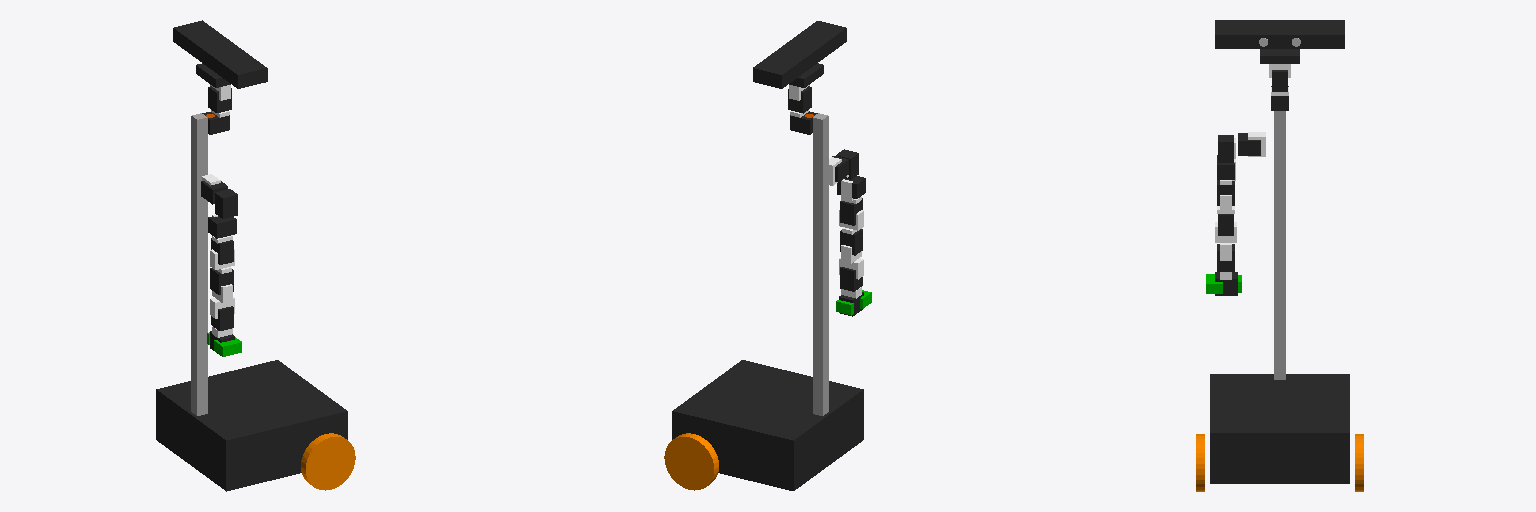
--- What the picture shows (computed from the rendered views, not written in the file) ---
3 views of the same robot in one strip: view 1: azimuth 30°, elevation 25°; view 2: azimuth 150°, elevation 25°; view 3: azimuth 270°, elevation 25° (orthographic).
Robot: box_robot — 43 links, 42 joints (9 revolute, 2 continuous, 31 fixed); root link base_footprint; default pose: every joint at zero.
Visible links, largest first — view 1: base_link, torso_link, camera_link, base_r_wheel_link, right_arm_shoulder_lift_link, right_arm_shoulder_roll_link; view 2: base_link, torso_link, camera_link, base_l_wheel_link; view 3: base_link, camera_link, torso_link, camera_base_link.
Link boxes in pixels (x1=…): base_link: x1=156, y1=360, x2=347, y2=491; torso_link: x1=191, y1=113, x2=207, y2=415; camera_link: x1=173, y1=20, x2=267, y2=88; base_r_wheel_link: x1=301, y1=433, x2=355, y2=490; right_arm_shoulder_lift_link: x1=215, y1=189, x2=237, y2=218; right_arm_shoulder_roll_link: x1=208, y1=216, x2=236, y2=238; base_link: x1=672, y1=360, x2=863, y2=490; torso_link: x1=813, y1=113, x2=828, y2=415; camera_link: x1=753, y1=21, x2=846, y2=88; base_l_wheel_link: x1=664, y1=433, x2=718, y2=490; base_link: x1=1210, y1=374, x2=1349, y2=483; camera_link: x1=1215, y1=20, x2=1344, y2=48; torso_link: x1=1274, y1=111, x2=1285, y2=379; camera_base_link: x1=1260, y1=49, x2=1299, y2=63.
Bounding box of the posed robot: 0.3164 × 0.3603 × 1.01 m (x, y, z).
0 mesh visuals loaded from 1 distinct referenced files (none loaded); not drawn: 2 (reference not matched to a file when rendering).

URDF robot description (box_robot):
<?xml version="1.0" ?>
<!-- =================================================================================== -->
<!-- |    This document was autogenerated by xacro from box_robot_with_arm.xacro       | -->
<!-- |    EDITING THIS FILE BY HAND IS NOT RECOMMENDED                                 | -->
<!-- =================================================================================== -->
<robot name="box_robot" xmlns:xacro="http://ros.org/wiki/xacro">
  <!-- Define a number of dimensions using properties -->
  <!-- Include all component files -->
  <material name="Black">
    <color rgba="0.2 0.2 0.2 1.0"/>
  </material>
  <material name="TransparentBlack">
    <color rgba="0.2 0.2 0.2 0.8"/>
  </material>
  <material name="Orange">
    <color rgba="1.0  0.55 0.0 1.0"/>
  </material>
  <material name="Grey">
    <color rgba="0.7 0.7 0.7 1.0"/>
  </material>
  <material name="DarkGrey">
    <color rgba="0.3 0.3 0.3 1.0"/>
  </material>
  <material name="Red">
    <color rgba="0.8 0.0 0.0 1.0"/>
  </material>
  <material name="White">
    <color rgba="1.0 1.0 1.0 1.0"/>
  </material>
  <material name="OffWhite">
    <color rgba="0.8 0.8 0.8 1.0"/>
  </material>
  <material name="Blue">
    <color rgba="0.0 0.0 0.8 1.0"/>
  </material>
  <material name="Green">
    <color rgba="0.0 0.8 0.0 1.0"/>
  </material>
  <material name="TransparentGreen">
    <color rgba="0.0 0.8 0.0 0.5"/>
  </material>
  <link name="base_footprint">
    <visual>
      <origin rpy="0 0 0" xyz="0 0 0"/>
      <geometry>
        <box size="0.05 0.05 0.001"/>
      </geometry>
      <material name="TransparentGreen"/>
    </visual>
  </link>
  <joint name="base_joint" type="fixed">
    <origin rpy="0 0 0" xyz="0 0 0.098"/>
    <parent link="base_footprint"/>
    <child link="base_link"/>
  </joint>
  <joint name="base_l_wheel_joint" type="continuous">
    <axis xyz="0 0 1"/>
    <limit effort="100" velocity="100"/>
    <safety_controller k_velocity="10"/>
    <origin rpy="1.570795 0 0" xyz="0.09 0.17 -0.038"/>
    <parent link="base_link"/>
    <child link="base_l_wheel_link"/>
  </joint>
  <link name="base_l_wheel_link">
    <visual>
      <origin rpy="0 0 0" xyz="0 0 0"/>
      <geometry>
        <cylinder length="0.02032" radius="0.06191"/>
      </geometry>
      <material name="Orange"/>
    </visual>
  </link>
  <joint name="base_r_wheel_joint" type="continuous">
    <axis xyz="0 0 1"/>
    <limit effort="100" velocity="100"/>
    <safety_controller k_velocity="10"/>
    <origin rpy="-1.570795 0 0" xyz="0.09 -0.17 -0.038"/>
    <parent link="base_link"/>
    <child link="base_r_wheel_link"/>
  </joint>
  <link name="base_r_wheel_link">
    <visual>
      <origin rpy="0 0 0" xyz="0 0 0"/>
      <geometry>
        <cylinder length="0.02032" radius="0.06191"/>
      </geometry>
      <material name="Orange"/>
    </visual>
  </link>
  <!-- Add the base and wheels -->
  <link name="base_link">
    <visual>
      <origin rpy="0 0 0" xyz="0 0 0"/>
      <geometry>
        <box size="0.3 0.3 0.12"/>
      </geometry>
      <material name="Black"/>
    </visual>
    <collision>
      <origin rpy="0 0 0" xyz="0 0 0"/>
      <geometry>
        <box size="0.3 0.36032 0.12"/>
      </geometry>
    </collision>
  </link>
  <!-- Attach the torso -->
  <joint name="base_torso_joint" type="fixed">
    <origin rpy="0 0 0" xyz="-0.13 0.0 0.41"/>
    <parent link="base_link"/>
    <child link="torso_link"/>
  </joint>
  <link name="torso_link">
    <visual>
      <origin rpy="0 0 0" xyz="0 0 0"/>
      <geometry>
        <box size="0.0254 0.0254 0.7"/>
      </geometry>
      <material name="Grey"/>
    </visual>
    <collision>
      <origin rpy="0 0 0" xyz="0 0 0"/>
      <geometry>
        <box size="0.0254 0.0254 0.7"/>
      </geometry>
    </collision>
  </link>
  <!-- Attach the pan and tilt head -->
  <joint name="head_base_joint" type="fixed">
    <origin rpy="0 0 3.14159" xyz="0.0275 0.0 0.345"/>
    <parent link="torso_link"/>
    <child link="head_base_link"/>
  </joint>
  <link name="head_base_link">
    <origin rpy="0 0 0" xyz="0 0 0"/>
    <inertial>
      <mass value="0.00001"/>
      <inertia ixx="1.0" ixy="0.0" ixz="0.0" iyy="1.0" iyz="0.0" izz="1.0"/>
    </inertial>
    <visual>
      <origin rpy="0 0 0" xyz="0 0 0 "/>
      <geometry>
        <cylinder length="0.00001" radius="0.01"/>
      </geometry>
    </visual>
    <collision>
      <origin rpy="0 0 0" xyz="0 0 0 "/>
      <geometry>
        <cylinder length="0.00001" radius="0.01"/>
      </geometry>
    </collision>
  </link>
  <joint name="head_pan_servo_joint" type="fixed">
    <origin rpy="1.570795 0 -1.570795" xyz="-0.012 0 -0.0175"/>
    <parent link="head_base_link"/>
    <child link="head_pan_servo_link"/>
  </joint>
  <link name="head_pan_servo_link">
    <inertial>
      <mass value="0.00001"/>
      <origin xyz="0 0 0"/>
      <inertia ixx="1.0" ixy="0.0" ixz="0.0" iyy="1.0" iyz="0.0" izz="1.0"/>
    </inertial>
    <visual>
      <origin rpy="0 0 0" xyz="0 0 0"/>
      <geometry>
        <box size="0.0385 0.035 0.049"/>
      </geometry>
      <material name="Black"/>
    </visual>
    <collision>
      <origin rpy="0 0 0" xyz="0 0 -0.01241"/>
      <geometry>
        <box size="0.0385 0.035 0.049"/>
      </geometry>
    </collision>
  </link>
  <joint name="head_pan_joint" type="revolute">
    <origin rpy="-1.570795 1.570795 3.14159" xyz="0 0.0225 0.012"/>
    <axis xyz="0 0 -1"/>
    <parent link="head_pan_servo_link"/>
    <limit effort="1.0" lower="-2.9" upper="2.9" velocity="1.571"/>
    <child link="head_pan_bracket_link"/>
  </joint>
  <link name="head_pan_bracket_link">
    <inertial>
      <mass value="0.00001"/>
      <origin xyz="0 0 0"/>
      <inertia ixx="1.0" ixy="0.0" ixz="0.0" iyy="1.0" iyz="0.0" izz="1.0"/>
    </inertial>
    <visual>
      <origin rpy="0 0 0" xyz="0 0 0 "/>
      <geometry>
        <box size="0.025 0.038 0.009"/>
      </geometry>
      <material name="White"/>
    </visual>
    <collision>
      <origin rpy="0 0 0" xyz="0 0 0"/>
      <geometry>
        <box size="0.025 0.038 0.009"/>
      </geometry>
    </collision>
  </link>
  <joint name="head_tilt_servo_joint" type="fixed">
    <origin rpy="0 3.14159 0" xyz="0 0 -0.031"/>
    <parent link="head_pan_bracket_link"/>
    <child link="head_tilt_servo_link"/>
  </joint>
  <link name="head_tilt_servo_link">
    <inertial>
      <mass value="0.00001"/>
      <origin xyz="0 0 0"/>
      <inertia ixx="1.0" ixy="0.0" ixz="0.0" iyy="1.0" iyz="0.0" izz="1.0"/>
    </inertial>
    <visual>
      <origin rpy="0 0 0" xyz="0 0 0"/>
      <geometry>
        <box size="0.0385 0.035 0.049"/>
      </geometry>
      <material name="Black"/>
    </visual>
    <collision>
      <origin rpy="0 0 0" xyz="0 0 -0.01241"/>
      <geometry>
        <box size="0.0385 0.035 0.049"/>
      </geometry>
    </collision>
  </link>
  <joint name="head_tilt_joint" type="revolute">
    <origin rpy="0 0 0" xyz="0 0 0.025"/>
    <parent link="head_tilt_servo_link"/>
    <axis xyz="0 1 0"/>
    <limit effort="1.0" lower="-2.9" upper="2.9" velocity="1.571"/>
    <child link="head_tilt_bracket_link"/>
  </joint>
  <link name="head_tilt_bracket_link">
    <inertial>
      <mass value="0.00001"/>
      <origin xyz="0 0 0"/>
      <inertia ixx="1.0" ixy="0.0" ixz="0.0" iyy="1.0" iyz="0.0" izz="1.0"/>
    </inertial>
    <visual>
      <origin rpy="0 0 0" xyz="0 0 0 "/>
      <geometry>
        <box size="0.0245 0.048 0.038"/>
      </geometry>
      <material name="White"/>
    </visual>
    <collision>
      <origin rpy="0 0 0" xyz="0 0 0"/>
      <geometry>
        <box size="0.0245 0.048 0.038"/>
      </geometry>
    </collision>
  </link>
  <link name="left_eye_link">
    <visual>
      <origin rpy="0 1.57 0" xyz="0 0 0"/>
      <geometry>
        <cylinder length="0.01" radius="0.01"/>
      </geometry>
      <material name="OffWhite"/>
    </visual>
    <collision>
      <origin rpy="0 1.57 0" xyz="0 0 0"/>
      <geometry>
        <cylinder length="0.01" radius="0.01"/>
      </geometry>
    </collision>
    <inertial>
      <mass value="0.00001"/>
      <origin xyz="0 0 0"/>
      <inertia ixx="1.0" ixy="0.0" ixz="0.0" iyy="1.0" iyz="0.0" izz="1.0"/>
    </inertial>
  </link>
  <link name="right_eye_link">
    <visual>
      <origin rpy="0 1.57 0" xyz="0 0 0"/>
      <geometry>
        <cylinder length="0.01" radius="0.01"/>
      </geometry>
      <material name="OffWhite"/>
    </visual>
    <collision>
      <origin rpy="0 1.57 0" xyz="0 0 0"/>
      <geometry>
        <cylinder length="0.01" radius="0.01"/>
      </geometry>
    </collision>
    <inertial>
      <mass value="0.00001"/>
      <origin xyz="0 0 0"/>
      <inertia ixx="1.0" ixy="0.0" ixz="0.0" iyy="1.0" iyz="0.0" izz="1.0"/>
    </inertial>
  </link>
  <joint name="left_eye_joint" type="fixed">
    <parent link="camera_link"/>
    <child link="left_eye_link"/>
    <origin rpy="0 0 0" xyz="0.034355 0.035 0"/>
  </joint>
  <joint name="right_eye_joint" type="fixed">
    <parent link="camera_link"/>
    <child link="right_eye_link"/>
    <origin rpy="0 0 0" xyz="0.034355 -0.035 0"/>
  </joint>
  <joint name="head_tilt_bracket_camera_joint" type="fixed">
    <origin rpy="0 0 0" xyz="0.0 0.0 0.0345"/>
    <parent link="head_tilt_bracket_link"/>
    <child link="camera_base_link"/>
  </joint>
  <link name="camera_base_link">
    <visual>
      <origin rpy="0 0 0" xyz="0 0.0 0.0"/>
      <geometry>
        <box size="0.072 0.085 0.021"/>
      </geometry>
      <material name="Black"/>
    </visual>
    <collision>
      <origin rpy="0 0 0" xyz="0 0 0"/>
      <geometry>
        <box size="0.072 0.085 0.021"/>
      </geometry>
    </collision>
  </link>
  <joint name="camera_base_post_joint" type="fixed">
    <origin rpy="0 0 0" xyz="0 0 0.0185"/>
    <parent link="camera_base_link"/>
    <child link="camera_base_post_link"/>
  </joint>
  <link name="camera_base_post_link">
    <visual>
      <origin rpy="0 0 0" xyz="0 0 0"/>
      <geometry>
        <cylinder length="0.016" radius="0.005"/>
      </geometry>
      <material name="Black"/>
    </visual>
    <collision>
      <origin rpy="0 0 0" xyz="0 0 0"/>
      <geometry>
        <cylinder length="0.016" radius="0.005"/>
      </geometry>
    </collision>
  </link>
  <joint name="camera_base_joint" type="fixed">
    <origin rpy="0 0 0" xyz="0 0 0.0245"/>
    <parent link="camera_base_post_link"/>
    <child link="camera_link"/>
  </joint>
  <link name="camera_link">
    <visual>
      <origin rpy="0 0 0" xyz="0 0 0"/>
      <geometry>
        <box size="0.07271 0.27794 0.033"/>
      </geometry>
      <material name="Black"/>
    </visual>
    <collision>
      <origin rpy="0 0 0" xyz="0 0 0"/>
      <geometry>
        <box size="0.07271 0.27794 0.033"/>
      </geometry>
    </collision>
  </link>
  <joint name="camera_depth_joint" type="fixed">
    <origin rpy="0 0 0" xyz="0 0.0125 0"/>
    <parent link="camera_link"/>
    <child link="camera_depth_frame"/>
  </joint>
  <link name="camera_depth_frame">
    <inertial>
      <mass value="0.000001"/>
      <origin xyz="0 0 0"/>
      <inertia ixx="0.0001" ixy="0.0" ixz="0.0" iyy="0.0001" iyz="0.0" izz="0.0001"/>
    </inertial>
  </link>
  <joint name="camera_depth_optical_joint" type="fixed">
    <origin rpy="-1.570795 0 -1.570795" xyz="0 0 0"/>
    <parent link="camera_depth_frame"/>
    <child link="camera_depth_optical_frame"/>
  </joint>
  <link name="camera_depth_optical_frame">
    <inertial>
      <mass value="0.000001"/>
      <origin xyz="0 0 0"/>
      <inertia ixx="0.0001" ixy="0.0" ixz="0.0" iyy="0.0001" iyz="0.0" izz="0.0001"/>
    </inertial>
  </link>
  <joint name="camera_rgb_joint" type="fixed">
    <origin rpy="0 0 0" xyz="0 -0.0125 0"/>
    <parent link="camera_link"/>
    <child link="camera_rgb_frame"/>
  </joint>
  <link name="camera_rgb_frame">
    <inertial>
      <mass value="0.000001"/>
      <origin xyz="0 0 0"/>
      <inertia ixx="0.0001" ixy="0.0" ixz="0.0" iyy="0.0001" iyz="0.0" izz="0.0001"/>
    </inertial>
  </link>
  <joint name="camera_rgb_optical_joint" type="fixed">
    <origin rpy="-1.570795 0 -1.570795" xyz="0 0 0"/>
    <parent link="camera_rgb_frame"/>
    <child link="camera_rgb_optical_frame"/>
  </joint>
  <link name="camera_rgb_optical_frame">
    <inertial>
      <mass value="0.000001"/>
      <origin xyz="0 0 0"/>
      <inertia ixx="0.0001" ixy="0.0" ixz="0.0" iyy="0.0001" iyz="0.0" izz="0.0001"/>
    </inertial>
  </link>
  <!-- Attach the right arm -->
  <link name="right_arm_base_link"/>
  <joint name="right_arm_base_joint" type="fixed">
    <origin rpy="0 0 1.570795" xyz="0.0 -0.05 0.2"/>
    <parent link="torso_link"/>
    <child link="right_arm_base_link"/>
  </joint>
  <joint name="right_arm_shoulder_F2_bracket_joint" type="fixed">
    <origin rpy="1.570795 0 1.570795" xyz="0 0 0"/>
    <parent link="right_arm_base_link"/>
    <child link="right_arm_shoulder_F2_bracket_link"/>
  </joint>
  <link name="right_arm_shoulder_F2_bracket_link">
    <inertial>
      <mass value="0.00001"/>
      <origin xyz="0 0 0"/>
      <inertia ixx="1.0" ixy="0.0" ixz="0.0" iyy="1.0" iyz="0.0" izz="1.0"/>
    </inertial>
    <visual>
      <origin rpy="0 0 0" xyz=" 0 0 0 "/>
      <geometry>
        <box size="0.0245 0.048 0.038"/>
      </geometry>
      <material name="White"/>
    </visual>
    <collision>
      <origin rpy="0 0 0" xyz="0.0 0.0 0.00775"/>
      <geometry>
        <box size="0.0245 0.048 0.038"/>
      </geometry>
    </collision>
  </link>
  <joint name="right_arm_shoulder_pan_joint" type="revolute">
    <origin rpy="0 0 0" xyz="0 0 -0.015"/>
    <axis xyz="0 1 0"/>
    <limit effort="1.0" lower="-2.7" upper="2.7" velocity="1.571"/>
    <parent link="right_arm_shoulder_F2_bracket_link"/>
    <child link="right_arm_shoulder_pan_link"/>
  </joint>
  <link name="right_arm_shoulder_pan_link">
    <inertial>
      <mass value="0.00001"/>
      <origin xyz="0 0 0"/>
      <inertia ixx="1.0" ixy="0.0" ixz="0.0" iyy="1.0" iyz="0.0" izz="1.0"/>
    </inertial>
    <visual>
      <origin rpy="0 0 0" xyz=" 0 0 0 "/>
      <geometry>
        <box size="0.0385 0.035 0.049"/>
      </geometry>
      <material name="Black"/>
    </visual>
    <collision>
      <origin rpy="0 0 0" xyz="0.0 0.0 -0.01241"/>
      <geometry>
        <box size="0.0385 0.035 0.049"/>
      </geometry>
    </collision>
  </link>
  <joint name="right_arm_shoulder_F3_bracket_joint" type="fixed">
    <origin rpy="0 3.14159 0" xyz="0 -0.01 -0.03275"/>
    <parent link="right_arm_shoulder_pan_link"/>
    <child link="right_arm_shoulder_F3_bracket_link"/>
  </joint>
  <link name="right_arm_shoulder_F3_bracket_link">
    <inertial>
      <mass value="0.00001"/>
      <origin xyz="0 0 0"/>
      <inertia ixx="1.0" ixy="0.0" ixz="0.0" iyy="1.0" iyz="0.0" izz="1.0"/>
    </inertial>
    <visual>
      <origin rpy="0 0 0" xyz=" 0 0 0 "/>
      <geometry>
        <box size="0.025 0.038 0.009"/>
      </geometry>
      <material name="White"/>
    </visual>
    <collision>
      <origin rpy="0 0 0" xyz="0.0 0.0 -0.0045"/>
      <geometry>
        <box size="0.025 0.038 0.009"/>
      </geometry>
    </collision>
  </link>
  <joint name="right_arm_shoulder_lift_joint" type="revolute">
    <origin rpy="1.570795 3.14159 3.14159" xyz="0 0 0.0175"/>
    <axis xyz="0 -1.0 0"/>
    <limit effort="1.0" lower="-4.7" upper="4.7" velocity="1.571"/>
    <parent link="right_arm_shoulder_F3_bracket_link"/>
    <child link="right_arm_shoulder_lift_link"/>
  </joint>
  <link name="right_arm_shoulder_lift_link">
    <inertial>
      <mass value="0.00001"/>
      <origin xyz="0 0 0"/>
      <inertia ixx="1.0" ixy="0.0" ixz="0.0" iyy="1.0" iyz="0.0" izz="1.0"/>
    </inertial>
    <visual>
      <origin rpy="0 0 0" xyz=" 0 0 0 "/>
      <geometry>
        <box size="0.0385 0.035 0.049"/>
      </geometry>
      <material name="Black"/>
    </visual>
    <collision>
      <origin rpy="0 0 0" xyz="0.0 0.0 -0.01241"/>
      <geometry>
        <box size="0.0385 0.035 0.049"/>
      </geometry>
    </collision>
  </link>
  <joint name="right_arm_shoulder_roll_joint" type="revolute">
    <origin rpy="1.570795 0 1.570795" xyz="-0.01 0 -0.049"/>
    <axis xyz="0 1.0 0"/>
    <limit effort="1.0" lower="-2.617" upper="2.617" velocity="1.571"/>
    <parent link="right_arm_shoulder_lift_link"/>
    <child link="right_arm_shoulder_roll_link"/>
  </joint>
  <link name="right_arm_shoulder_roll_link">
    <inertial>
      <mass value="0.00001"/>
      <origin xyz="0 0 0"/>
      <inertia ixx="1.0" ixy="0.0" ixz="0.0" iyy="1.0" iyz="0.0" izz="1.0"/>
    </inertial>
    <visual>
      <origin rpy="0 0 0" xyz=" 0 0 0 "/>
      <geometry>
        <box size="0.0385 0.035 0.049"/>
      </geometry>
      <material name="Black"/>
    </visual>
    <collision>
      <origin rpy="0 0 0" xyz="0.0 0.0 -0.01241"/>
      <geometry>
        <box size="0.0385 0.035 0.049"/>
      </geometry>
    </collision>
  </link>
  <joint name="right_arm_shoulder_roll_F3_bracket_joint" type="fixed">
    <origin rpy="0 1.570795 0" xyz="0.0175 0 0"/>
    <parent link="right_arm_shoulder_roll_link"/>
    <child link="right_arm_shoulder_roll_F3_bracket_link"/>
  </joint>
  <link name="right_arm_shoulder_roll_F3_bracket_link">
    <inertial>
      <mass value="0.00001"/>
      <origin xyz="0 0 0"/>
      <inertia ixx="1.0" ixy="0.0" ixz="0.0" iyy="1.0" iyz="0.0" izz="1.0"/>
    </inertial>
    <visual>
      <origin rpy="0 0 0" xyz=" 0 0 0 "/>
      <geometry>
        <box size="0.025 0.038 0.009"/>
      </geometry>
      <material name="White"/>
    </visual>
    <collision>
      <origin rpy="0 0 0" xyz="0.0 0.0 -0.0045"/>
      <geometry>
        <box size="0.025 0.038 0.009"/>
      </geometry>
    </collision>
  </link>
  <joint name="right_arm_shoulder_roll_F9_bracket_joint" type="fixed">
    <origin rpy="0 1.570795 0" xyz="0 -0.0125 -0.0085"/>
    <parent link="right_arm_shoulder_roll_F3_bracket_link"/>
    <child link="right_arm_shoulder_roll_F9_bracket_link"/>
  </joint>
  <link name="right_arm_shoulder_roll_F9_bracket_link">
    <inertial>
      <mass value="0.00001"/>
      <origin xyz="0 0 0"/>
      <inertia ixx="1.0" ixy="0.0" ixz="0.0" iyy="1.0" iyz="0.0" izz="1.0"/>
    </inertial>
    <visual>
      <origin rpy="0 0 0" xyz=" 0 0 0 "/>
      <geometry>
        <box size="0.025 0.025 0.025"/>
      </geometry>
      <material name="White"/>
    </visual>
    <collision>
      <origin rpy="0 0 0" xyz="0.0 0.0 -0.0045"/>
      <geometry>
        <box size="0.025 0.025 0.025"/>
      </geometry>
    </collision>
  </link>
  <joint name="right_arm_elbow_F3_bracket_joint" type="fixed">
    <origin rpy="1.570795 3.14159 3.14159" xyz="0.009 -0.01575 0"/>
    <parent link="right_arm_shoulder_roll_F9_bracket_link"/>
    <child link="right_arm_elbow_F3_bracket_link"/>
  </joint>
  <link name="right_arm_elbow_F3_bracket_link">
    <inertial>
      <mass value="0.00001"/>
      <origin xyz="0 0 0"/>
      <inertia ixx="1.0" ixy="0.0" ixz="0.0" iyy="1.0" iyz="0.0" izz="1.0"/>
    </inertial>
    <visual>
      <origin rpy="0 0 0" xyz=" 0 0 0 "/>
      <geometry>
        <box size="0.025 0.038 0.009"/>
      </geometry>
      <material name="White"/>
    </visual>
    <collision>
      <origin rpy="0 0 0" xyz="0.0 0.0 -0.0045"/>
      <geometry>
        <box size="0.025 0.038 0.009"/>
      </geometry>
    </collision>
  </link>
  <joint name="right_arm_elbow_flex_servo_joint" type="fixed">
    <origin rpy="0 3.14159 0" xyz="0 0 -0.029"/>
    <parent link="right_arm_elbow_F3_bracket_link"/>
    <child link="right_arm_elbow_flex_servo_link"/>
  </joint>
  <link name="right_arm_elbow_flex_servo_link">
    <inertial>
      <mass value="0.00001"/>
      <origin xyz="0 0 0"/>
      <inertia ixx="1.0" ixy="0.0" ixz="0.0" iyy="1.0" iyz="0.0" izz="1.0"/>
    </inertial>
    <visual>
      <origin rpy="0 0 0" xyz="0 0 0"/>
      <geometry>
        <box size="0.0385 0.035 0.049"/>
      </geometry>
      <material name="Black"/>
    </visual>
    <collision>
      <origin rpy="0 0 0" xyz="0 0 -0.01241"/>
      <geometry>
        <box size="0.0385 0.035 0.049"/>
      </geometry>
    </collision>
  </link>
  <joint name="right_arm_elbow_flex_joint" type="revolute">
    <origin rpy="0 0 0" xyz="0 0 0.0185"/>
    <axis xyz="0 1 0"/>
    <limit effort="1.0" lower="-1.8" upper="1.8" velocity="1.571"/>
    <parent link="right_arm_elbow_flex_servo_link"/>
    <child link="right_arm_elbow_flex_link"/>
  </joint>
  <link name="right_arm_elbow_flex_link">
    <inertial>
      <mass value="0.00001"/>
      <origin xyz="0 0 0"/>
      <inertia ixx="1.0" ixy="0.0" ixz="0.0" iyy="1.0" iyz="0.0" izz="1.0"/>
    </inertial>
    <visual>
      <origin rpy="0 0 0" xyz=" 0 0 0 "/>
      <geometry>
        <box size="0.0245 0.048 0.038"/>
      </geometry>
      <material name="White"/>
    </visual>
    <collision>
      <origin rpy="0 0 0" xyz="0.0 0.0 0.00775"/>
      <geometry>
        <box size="0.0245 0.048 0.038"/>
      </geometry>
    </collision>
  </link>
  <joint name="right_arm_forearm_F3_bracket_joint" type="fixed">
    <origin rpy="3.14159 0 1.570795" xyz="0 0 0.0235"/>
    <parent link="right_arm_elbow_flex_link"/>
    <child link="right_arm_forearm_F3_bracket_link"/>
  </joint>
  <link name="right_arm_forearm_F3_bracket_link">
    <inertial>
      <mass value="0.00001"/>
      <origin xyz="0 0 0"/>
      <inertia ixx="1.0" ixy="0.0" ixz="0.0" iyy="1.0" iyz="0.0" izz="1.0"/>
    </inertial>
    <visual>
      <origin rpy="0 0 0" xyz=" 0 0 0 "/>
      <geometry>
        <box size="0.025 0.038 0.009"/>
      </geometry>
      <material name="White"/>
    </visual>
    <collision>
      <origin rpy="0 0 0" xyz="0.0 0.0 -0.0045"/>
      <geometry>
        <box size="0.025 0.038 0.009"/>
      </geometry>
    </collision>
  </link>
  <joint name="right_arm_forearm_flex_servo_joint" type="fixed">
    <origin rpy="3.14159 0 0" xyz="0 0 -0.02875"/>
    <parent link="right_arm_forearm_F3_bracket_link"/>
    <child link="right_arm_forearm_flex_servo_link"/>
  </joint>
  <link name="right_arm_forearm_flex_servo_link">
    <inertial>
      <mass value="0.00001"/>
      <origin xyz="0 0 0"/>
      <inertia ixx="1.0" ixy="0.0" ixz="0.0" iyy="1.0" iyz="0.0" izz="1.0"/>
    </inertial>
    <visual>
      <origin rpy="0 0 0" xyz="0 0 0"/>
      <geometry>
        <box size="0.0385 0.035 0.049"/>
      </geometry>
      <material name="Black"/>
    </visual>
    <collision>
      <origin rpy="0 0 0" xyz="0 0 -0.01241"/>
      <geometry>
        <box size="0.0385 0.035 0.049"/>
      </geometry>
    </collision>
  </link>
  <joint name="right_arm_forearm_flex_joint" type="revolute">
    <origin rpy="0 0 0" xyz="0 0 0.0245"/>
    <axis xyz="0 1.0 0"/>
    <limit effort="1.0" lower="-1.8" upper="1.8" velocity="1.571"/>
    <parent link="right_arm_forearm_flex_servo_link"/>
    <child link="right_arm_forearm_flex_link"/>
  </joint>
  <link name="right_arm_forearm_flex_link">
    <inertial>
      <mass value="0.00001"/>
      <origin xyz="0 0 0"/>
      <inertia ixx="1.0" ixy="0.0" ixz="0.0" iyy="1.0" iyz="0.0" izz="1.0"/>
    </inertial>
    <visual>
      <origin rpy="0 0 0" xyz=" 0 0 0 "/>
      <geometry>
        <box size="0.0245 0.048 0.038"/>
      </geometry>
      <material name="White"/>
    </visual>
    <collision>
      <origin rpy="0 0 0" xyz="0.0 0.0 0.00775"/>
      <geometry>
        <box size="0.0245 0.048 0.038"/>
      </geometry>
    </collision>
  </link>
  <joint name="right_arm_forearm_F2_bracket_joint" type="fixed">
    <origin rpy="0 3.14159 1.570795" xyz="0 0 0.03825"/>
    <parent link="right_arm_forearm_flex_link"/>
    <child link="right_arm_forearm_F2_bracket_link"/>
  </joint>
  <link name="right_arm_forearm_F2_bracket_link">
    <inertial>
      <mass value="0.00001"/>
      <origin xyz="0 0 0"/>
      <inertia ixx="1.0" ixy="0.0" ixz="0.0" iyy="1.0" iyz="0.0" izz="1.0"/>
    </inertial>
    <visual>
      <origin rpy="0 0 0" xyz=" 0 0 0 "/>
      <geometry>
        <box size="0.0245 0.048 0.038"/>
      </geometry>
      <material name="White"/>
    </visual>
    <collision>
      <origin rpy="0 0 0" xyz="0.0 0.0 0.00775"/>
      <geometry>
        <box size="0.0245 0.048 0.038"/>
      </geometry>
    </collision>
  </link>
  <joint name="right_arm_wrist_flex_joint" type="revolute">
    <origin rpy="0 0 0" xyz="0 0 -0.0225"/>
    <axis xyz="0 1 0"/>
    <limit effort="1.0" lower="-1.57" upper="1.57" velocity="1.571"/>
    <parent link="right_arm_forearm_F2_bracket_link"/>
    <child link="right_arm_wrist_flex_link"/>
  </joint>
  <link name="right_arm_wrist_flex_link">
    <inertial>
      <mass value="0.00001"/>
      <origin xyz="0 0 0"/>
      <inertia ixx="1.0" ixy="0.0" ixz="0.0" iyy="1.0" iyz="0.0" izz="1.0"/>
    </inertial>
    <visual>
      <origin rpy="0 0 0" xyz=" 0 0 0 "/>
      <geometry>
        <box size="0.0385 0.035 0.049"/>
      </geometry>
      <material name="Black"/>
    </visual>
    <collision>
      <origin rpy="0 0 0" xyz="0.0 0.0 -0.01241"/>
      <geometry>
        <box size="0.0385 0.035 0.049"/>
      </geometry>
    </collision>
  </link>
  <joint name="right_arm_wrist_F3_bracket_joint" type="fixed">
    <origin rpy="3.14159 0 0" xyz="0 0 -0.029"/>
    <parent link="right_arm_wrist_flex_link"/>
    <child link="right_arm_wrist_F3_bracket_link"/>
  </joint>
  <link name="right_arm_wrist_F3_bracket_link">
    <inertial>
      <mass value="0.00001"/>
      <origin xyz="0 0 0"/>
      <inertia ixx="1.0" ixy="0.0" ixz="0.0" iyy="1.0" iyz="0.0" izz="1.0"/>
    </inertial>
    <visual>
      <origin rpy="0 0 0" xyz=" 0 0 0 "/>
      <geometry>
        <box size="0.025 0.038 0.009"/>
      </geometry>
      <material name="White"/>
    </visual>
    <collision>
      <origin rpy="0 0 0" xyz="0.0 0.0 -0.0045"/>
      <geometry>
        <box size="0.025 0.038 0.009"/>
      </geometry>
    </collision>
  </link>
  <joint name="right_arm_gripper_attach_joint" type="fixed">
    <origin rpy="3.14159 0 0" xyz="0 0 0.009"/>
    <parent link="right_arm_wrist_F3_bracket_link"/>
    <child link="right_arm_gripper_attach_link"/>
  </joint>
  <link name="right_arm_gripper_attach_link">
    <inertial>
      <mass value="0.00001"/>
      <origin xyz="0 0 0"/>
      <inertia ixx="1.0" ixy="0.0" ixz="0.0" iyy="1.0" iyz="0.0" izz="1.0"/>
    </inertial>
    <visual>
      <origin rpy="0 0 0" xyz=" 0 0 0 "/>
      <geometry>
        <box size="0.025 0.038 0.009"/>
      </geometry>
      <material name="White"/>
    </visual>
    <collision>
      <origin rpy="0 0 0" xyz="0.0 0.0 -0.0045"/>
      <geometry>
        <box size="0.025 0.038 0.009"/>
      </geometry>
    </collision>
  </link>
  <!-- Attach the right gripper -->
  <joint name="right_gripper_base_joint" type="fixed">
    <origin rpy="0 1.570795 3.14159" xyz="0 0 -0.0235"/>
    <parent link="right_arm_gripper_attach_link"/>
    <child link="right_gripper_base_link"/>
  </joint>
  <link name="right_gripper_base_link">
    <inertial>
      <mass value="0.00001"/>
      <origin xyz="0 0 0"/>
      <inertia ixx="1.0" ixy="0.0" ixz="0.0" iyy="1.0" iyz="0.0" izz="1.0"/>
    </inertial>
    <visual>
      <origin rpy="0 0 0" xyz="0 0 0"/>
      <geometry>
        <box size="0.0385 0.035 0.049"/>
      </geometry>
      <material name="Black"/>
    </visual>
    <collision>
      <origin rpy="0 0 0" xyz="0 0 -0.01241"/>
      <geometry>
        <box size="0.0385 0.035 0.049"/>
      </geometry>
    </collision>
  </link>
  <joint name="right_gripper_finger_joint" type="revolute">
    <origin rpy="0 0 0" xyz="0 0 0.025"/>
    <axis xyz="0 1 0"/>
    <limit effort="30" lower="-0.060" upper="0.50" velocity="0.785"/>
    <parent link="right_gripper_base_link"/>
    <child link="right_gripper_active_finger_bracket_link"/>
  </joint>
  <link name="right_gripper_active_finger_bracket_link">
    <inertial>
      <mass value="0.00001"/>
      <origin xyz="0 0 0"/>
      <inertia ixx="1.0" ixy="0.0" ixz="0.0" iyy="1.0" iyz="0.0" izz="1.0"/>
    </inertial>
    <visual>
      <origin rpy="0 0 0" xyz="0 0 0"/>
      <geometry>
        <box size="0.0245 0.048 0.038"/>
      </geometry>
      <material name="Green"/>
    </visual>
    <collision>
      <origin rpy="0 0 0" xyz="0.0 0.0 0.00775"/>
      <geometry>
        <box size="0.0245 0.048 0.038"/>
      </geometry>
    </collision>
  </link>
  <joint name="right_gripper_active_finger_joint" type="fixed">
    <origin rpy="0 0 0" xyz="0 0 0.019"/>
    <parent link="right_gripper_active_finger_bracket_link"/>
    <child link="right_gripper_active_finger_link"/>
  </joint>
  <link name="right_gripper_active_finger_link">
    <inertial>
      <mass value="0.00001"/>
      <origin xyz="0 0 0"/>
      <inertia ixx="1.0" ixy="0.0" ixz="0.0" iyy="1.0" iyz="0.0" izz="1.0"/>
    </inertial>
    <visual>
      <origin rpy="0 0 0" xyz=" 0 0 0 "/>
      <geometry>
        <mesh filename="package://rbx2_description/meshes/finger.stl" scale="0.001 0.001 0.001"/>
      </geometry>
      <material name="Green"/>
    </visual>
    <collision>
      <origin rpy="0 0 0" xyz="0.02645 0.0 -0.00655"/>
      <geometry>
        <box size="0.0783 0.03801 0.0193"/>
      </geometry>
    </collision>
  </link>
  <joint name="right_gripper_static_finger_bracket_joint" type="fixed">
    <origin rpy="0 3.14159 0" xyz="0 0 -0.029"/>
    <parent link="right_gripper_base_link"/>
    <child link="right_gripper_static_finger_bracket_link"/>
  </joint>
  <link name="right_gripper_static_finger_bracket_link">
    <inertial>
      <mass value="0.00001"/>
      <origin xyz="0 0 0"/>
      <inertia ixx="1.0" ixy="0.0" ixz="0.0" iyy="1.0" iyz="0.0" izz="1.0"/>
    </inertial>
    <visual>
      <origin rpy="0 0 0" xyz=" 0 0 0 "/>
      <geometry>
        <box size="0.025 0.038 0.009"/>
      </geometry>
      <material name="Green"/>
    </visual>
    <collision>
      <origin rpy="0 0 0" xyz="0.0 0.0 -0.0045"/>
      <geometry>
        <box size="0.025 0.038 0.009"/>
      </geometry>
    </collision>
  </link>
  <joint name="right_gripper_static_finger_joint" type="fixed">
    <origin rpy="0 0 3.14159" xyz="0 0 0.004"/>
    <parent link="right_gripper_static_finger_bracket_link"/>
    <child link="right_gripper_static_finger_link"/>
  </joint>
  <link name="right_gripper_static_finger_link">
    <inertial>
      <mass value="0.00001"/>
      <origin xyz="0 0 0"/>
      <inertia ixx="1.0" ixy="0.0" ixz="0.0" iyy="1.0" iyz="0.0" izz="1.0"/>
    </inertial>
    <visual>
      <origin rpy="0 0 0" xyz=" 0 0 0 "/>
      <geometry>
        <mesh filename="package://rbx2_description/meshes/finger.stl" scale="0.001 0.001 0.001"/>
      </geometry>
      <material name="Green"/>
    </visual>
    <collision>
      <origin rpy="0 0 0" xyz="0.02645 0.0 -0.00655"/>
      <geometry>
        <box size="0.0783 0.03801 0.0193"/>
      </geometry>
    </collision>
  </link>
  <joint name="right_gripper_joint" type="fixed">
    <axis xyz="0 0 1"/>
    <origin rpy="1.570795 0 0" xyz="0.05 0.0 -0.0375"/>
    <parent link="right_gripper_static_finger_link"/>
    <child link="right_gripper_link"/>
  </joint>
  <link name="right_gripper_link">
    <visual>
      <origin rpy="0 0 0" xyz="0 0 0"/>
      <geometry>
        <box size="0.001 0.0005 0.0005"/>
      </geometry>
    </visual>
  </link>
</robot>
